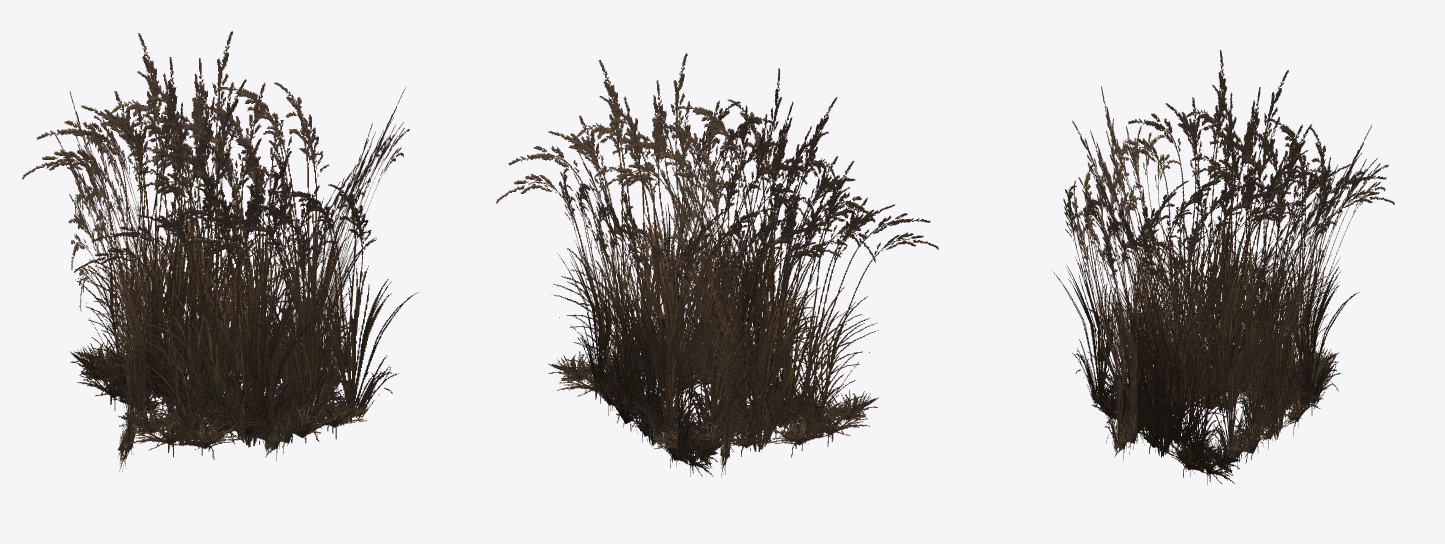
Rendered from grass_3.glb.
The picture shows the model from 3 angles, left to right: view 1: azimuth 30°, elevation 25°; view 2: azimuth 150°, elevation 25°; view 3: azimuth 270°, elevation 25°; orthographic projection. The views are drawn at different scales.
Visible parts, largest first — view 1: grass_3; view 2: grass_3; view 3: grass_3.
Boxes of the visible parts, box(x1,y1,x2,y2) form: grass_3: box(22, 31, 418, 471); grass_3: box(496, 53, 938, 477); grass_3: box(1053, 50, 1394, 484).
Bounding box in the file's own units: 1.41 × 1.04 × 1.21.
Materials: 1 (1 with a texture image).
